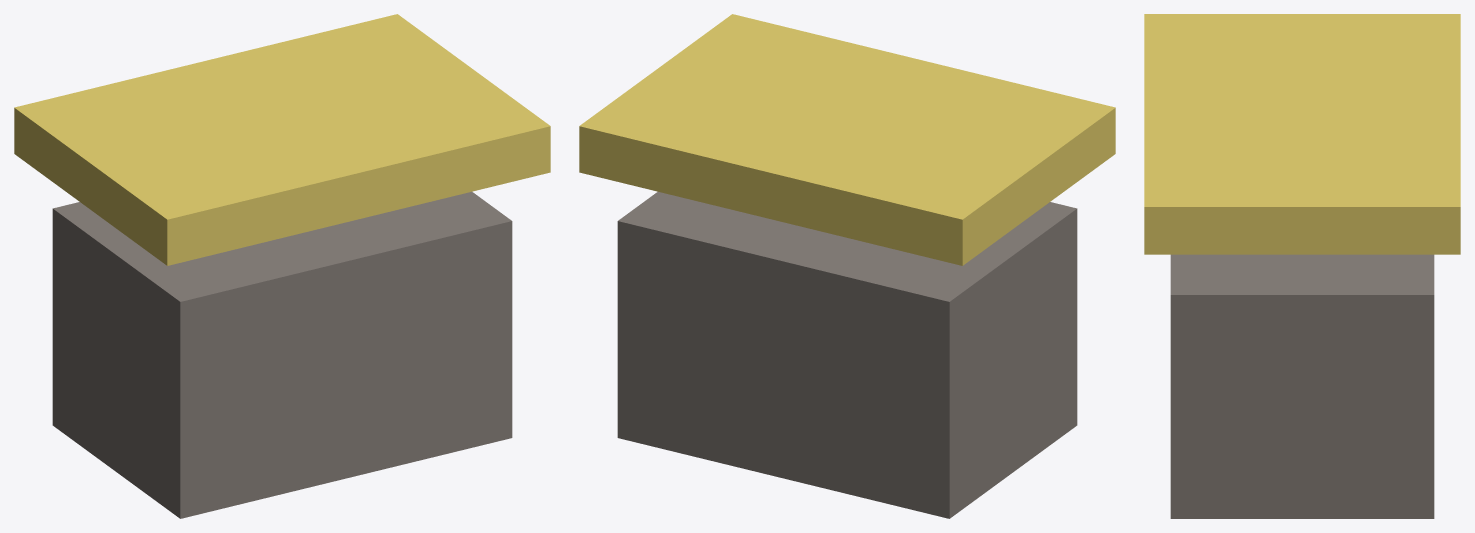
The model's file is barracks_worker.glb.
3 renders of one model, left to right at view 1: azimuth 30°, elevation 25°; view 2: azimuth 150°, elevation 25°; view 3: azimuth 270°, elevation 25°, orthographic. The views are drawn at different scales.
Parts seen in each view (by area): view 1: Barracks_Base, Barracks_Roof; view 2: Barracks_Base, Barracks_Roof; view 3: Barracks_Roof, Barracks_Base.
Boxes of the visible parts, x1=… form: Barracks_Base: x1=52, y1=191, x2=512, y2=518; Barracks_Roof: x1=14, y1=14, x2=550, y2=265; Barracks_Base: x1=617, y1=191, x2=1077, y2=518; Barracks_Roof: x1=579, y1=14, x2=1115, y2=265; Barracks_Roof: x1=1144, y1=14, x2=1460, y2=254; Barracks_Base: x1=1170, y1=254, x2=1434, y2=518.
Bounding box in the file's own units: 2.08 × 1.63 × 1.44.
